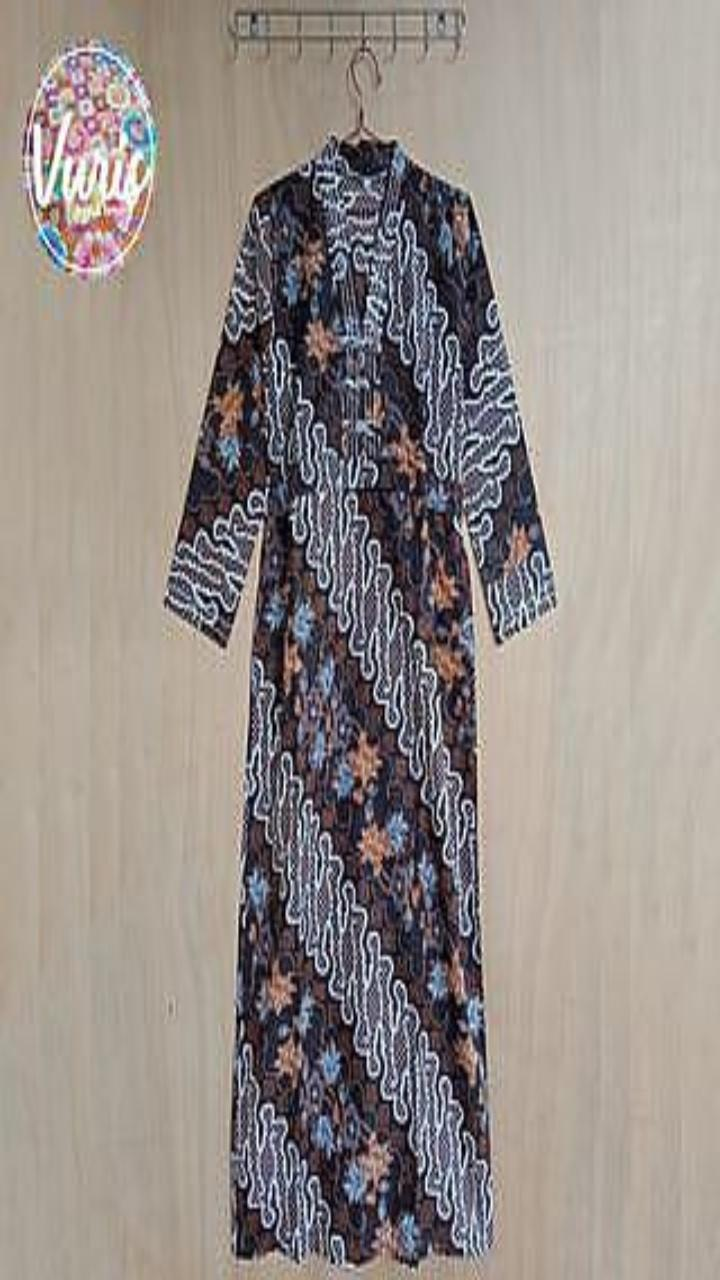Dresses: (165, 135, 555, 1264)
